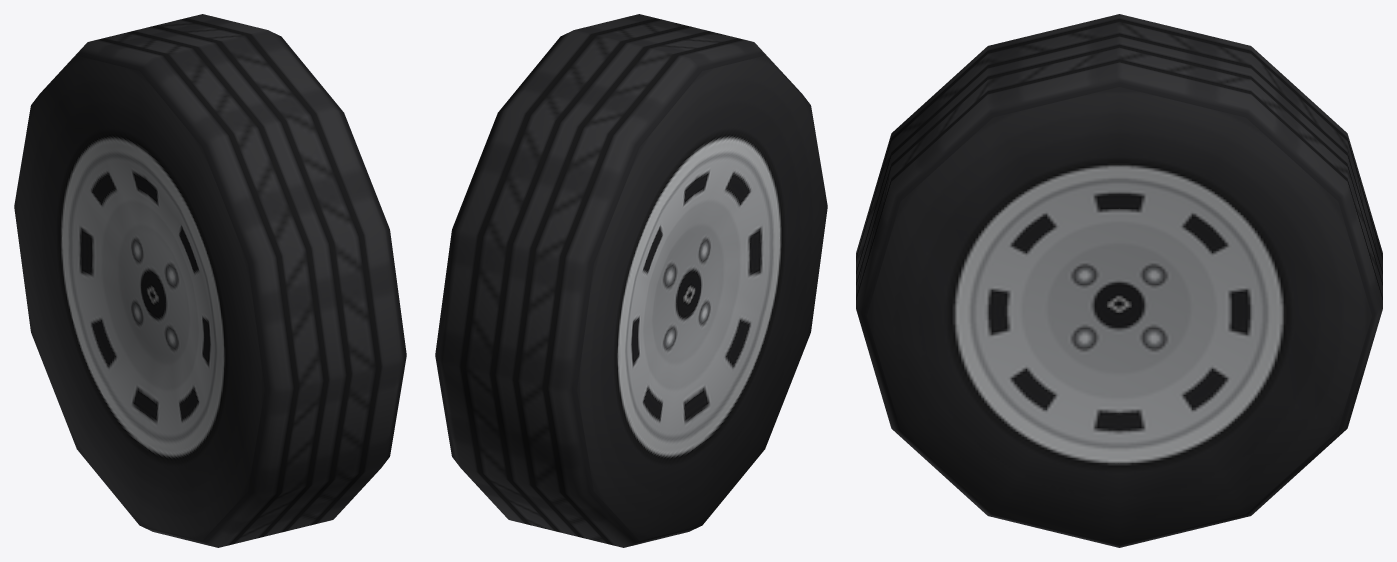
The model's file is Vehicles_batman_RenaultTraficI_Wheel.fbx.
3 views of the same model, side by side, from view 1: azimuth 30°, elevation 25°; view 2: azimuth 150°, elevation 25°; view 3: azimuth 270°, elevation 25° (orthographic).
Visible parts, largest first — view 1: TrafI_wheel; view 2: TrafI_wheel; view 3: TrafI_wheel.
Boxes of the visible parts, left/top/right/bottom form: TrafI_wheel: left=14, top=14, right=406, bottom=547; TrafI_wheel: left=435, top=14, right=827, bottom=547; TrafI_wheel: left=856, top=14, right=1382, bottom=547.
Size of the model in its own units: 0.185 by 0.59 by 0.59.
